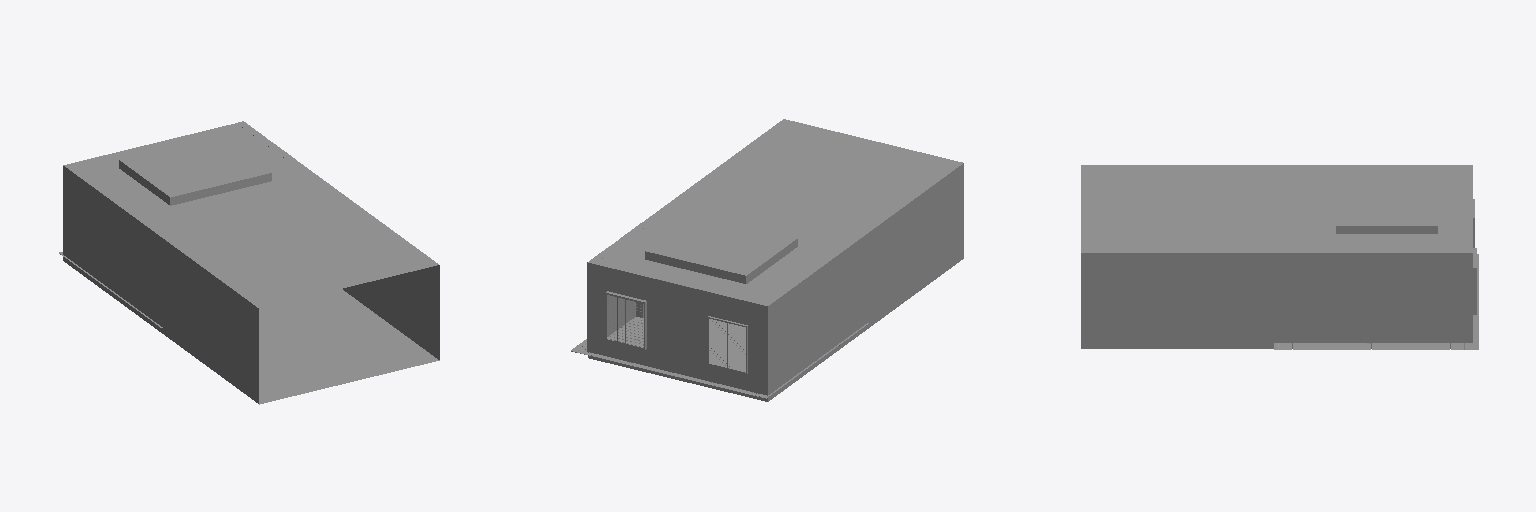
File: living_room.obj
3 renders of one model, left to right at view 1: azimuth 30°, elevation 25°; view 2: azimuth 150°, elevation 25°; view 3: azimuth 270°, elevation 25°, orthographic.
Visible parts, largest first — view 1: Cube.011_Cube.019; view 2: Cube.011_Cube.019, FloorBoard_Cube.018, Cube.012_Cube.020; view 3: Cube.011_Cube.019, Cube.012_Cube.020, FloorBoard_Cube.018.
Part boxes in pixels (left/top/right/bottom): Cube.011_Cube.019: left=63, top=123, right=439, bottom=404; Cube.011_Cube.019: left=588, top=119, right=963, bottom=401; FloorBoard_Cube.018: left=571, top=317, right=868, bottom=398; Cube.012_Cube.020: left=587, top=223, right=647, bottom=353; Cube.011_Cube.019: left=1081, top=165, right=1476, bottom=348; Cube.012_Cube.020: left=1365, top=250, right=1472, bottom=342; FloorBoard_Cube.018: left=1274, top=254, right=1478, bottom=349.
Size of the model in its own units: 19.57 by 9.93 by 34.48.